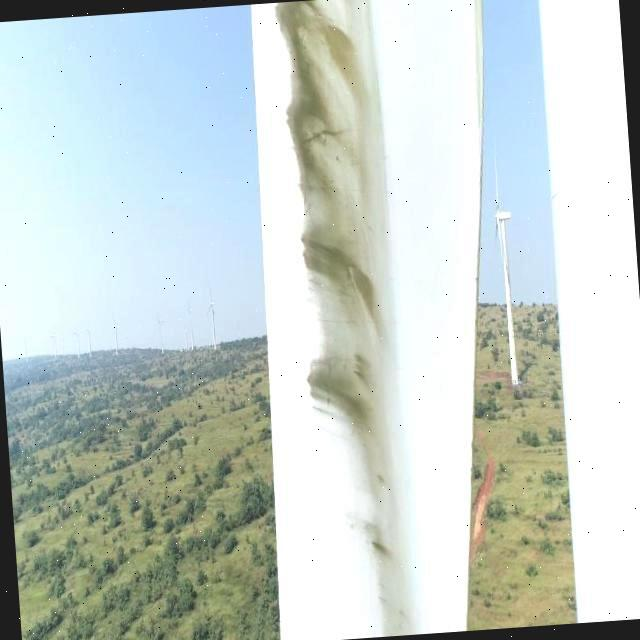Dirt: (272, 1, 421, 640)
